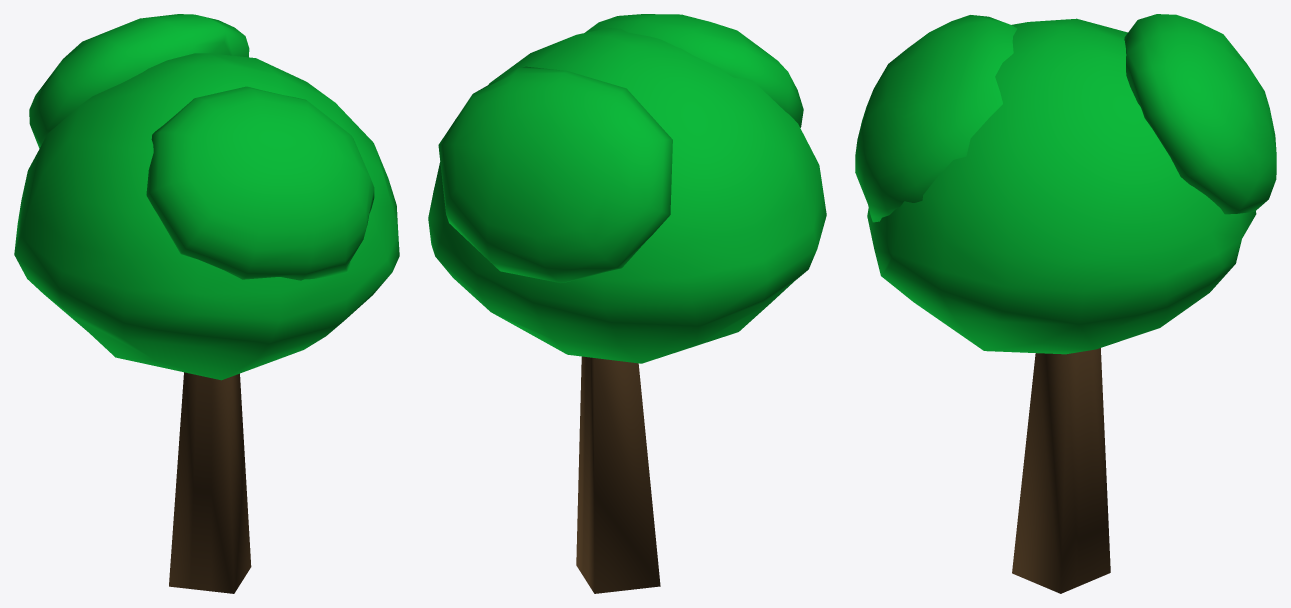
The model's file is tree_revize.fbx.
3 renders of one model, left to right at view 1: azimuth 30°, elevation 25°; view 2: azimuth 150°, elevation 25°; view 3: azimuth 270°, elevation 25°, orthographic. The views are drawn at different scales.
Visible parts, largest first — view 1: Retopo_Cube.010; view 2: Retopo_Cube.010; view 3: Retopo_Cube.010.
Part boxes in pixels (left/top/right/bottom): Retopo_Cube.010: left=14, top=14, right=399, bottom=593; Retopo_Cube.010: left=428, top=14, right=826, bottom=593; Retopo_Cube.010: left=855, top=14, right=1276, bottom=593.
Size of the model in its own units: 2.87 by 4.26 by 3.
